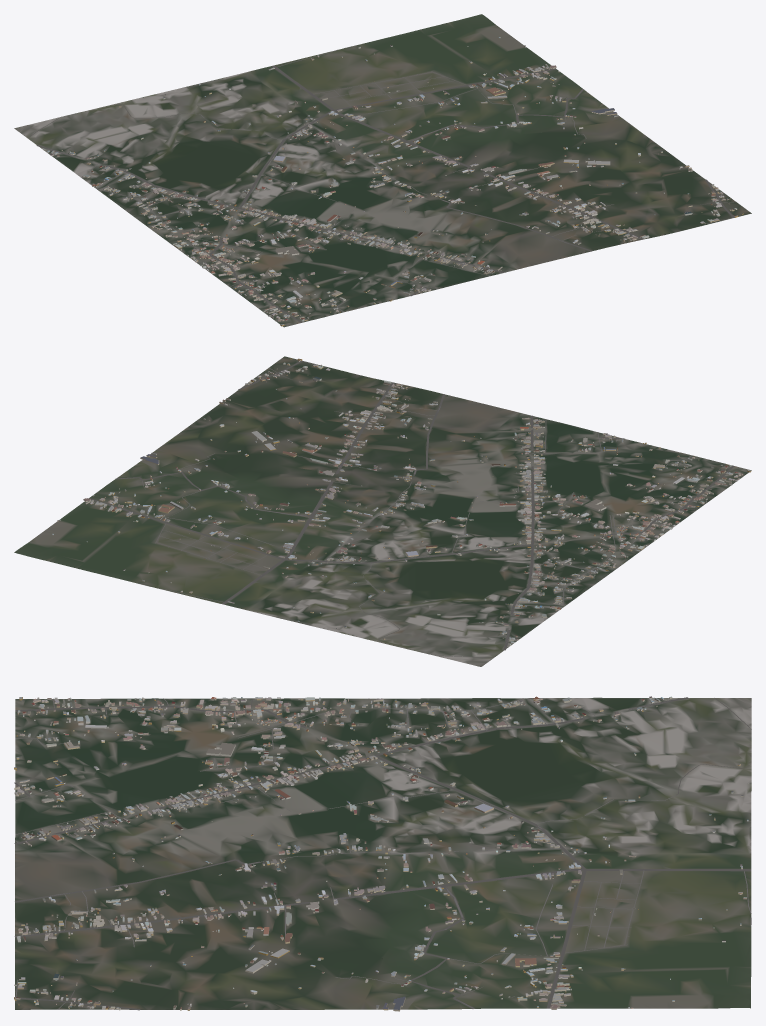
3 views of the same model, one above another, from view 1: azimuth 30°, elevation 25°; view 2: azimuth 150°, elevation 25°; view 3: azimuth 270°, elevation 25° (orthographic). The views are drawn at different scales.
Parts seen in each view (by area): view 1: ground, buildings, roads; view 2: ground, buildings, roads; view 3: ground, buildings, roads.
Boxes of the visible parts, box(x1,y1,x2,y2) form: ground: box(14, 14, 751, 327); buildings: box(43, 37, 743, 326); roads: box(28, 45, 735, 322); ground: box(14, 356, 751, 666); buildings: box(52, 358, 751, 645); roads: box(89, 360, 735, 657); ground: box(15, 697, 751, 1009); buildings: box(14, 696, 749, 1011); roads: box(14, 697, 751, 1010).
Bounding box in the file's own units: 2820 × 24.27 × 2808.
